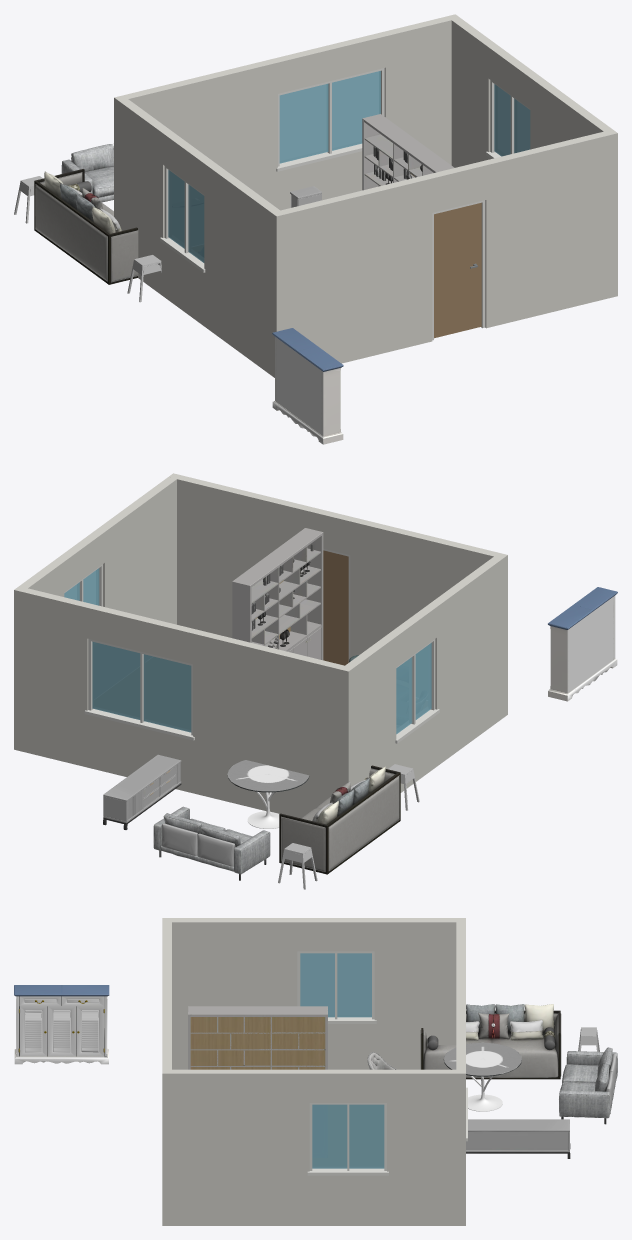
File: diffuscene.glb
The picture shows the model from 3 angles, top to bottom: view 1: azimuth 30°, elevation 25°; view 2: azimuth 150°, elevation 25°; view 3: azimuth 270°, elevation 25°; orthographic projection. The views are drawn at different scales.
Parts seen in each view (by area): view 1: wall|scenesmith_010__R00|0, wall|scenesmith_010__R00|1, wall|scenesmith_010__R00|2, wall|scenesmith_010__R00|3, raw_model.010, wall|scenesmith_010__R00|1 Window 0 | glazing, raw_model.003, wall|scenesmith_010__R00|0 Door 0 | wood leaf, raw_model.002, wall|scenesmith_010__R00|2 Window 0 | glazing, wall|scenesmith_010__R00|3 Window 0 | glazing, raw_model (+5 smaller); view 2: wall|scenesmith_010__R00|1, wall|scenesmith_010__R00|0, wall|scenesmith_010__R00|2, wall|scenesmith_010__R00|3, raw_model.002, raw_model.010, wall|scenesmith_010__R00|1 Window 0 | glazing, raw_model.003, raw_model, raw_model.005, wall|scenesmith_010__R00|0 Door 0 | wood leaf, raw_model.012 (+5 smaller); view 3: wall|scenesmith_010__R00|3, wall|scenesmith_010__R00|2, raw_model.002, raw_model.003, raw_model.010, wall|scenesmith_010__R00|3 Window 0 | glazing, wall|scenesmith_010__R00|2 Window 0 | glazing, raw_model.005, raw_model, wall|scenesmith_010__R00|0, wall|scenesmith_010__R00|1, raw_model.012 (+2 smaller).
Boxes of the visible parts, x1,y1,x2,y2 form: wall|scenesmith_010__R00|0: (271,129,617,377); wall|scenesmith_010__R00|1: (114,14,459,223); wall|scenesmith_010__R00|2: (119,95,285,374); wall|scenesmith_010__R00|3: (448,14,617,298); raw_model.010: (34,169,138,284); wall|scenesmith_010__R00|1 Window 0 | glazing: (279,71,380,163); raw_model.003: (272,328,343,444); wall|scenesmith_010__R00|0 Door 0 | wood leaf: (434,202,481,338); raw_model.002: (362,114,454,190); wall|scenesmith_010__R00|2 Window 0 | glazing: (168,170,204,262); wall|scenesmith_010__R00|3 Window 0 | glazing: (494,84,530,156); raw_model: (61,144,113,202); wall|scenesmith_010__R00|1: (22,588,353,818); wall|scenesmith_010__R00|0: (169,473,507,717); wall|scenesmith_010__R00|2: (340,556,502,792); wall|scenesmith_010__R00|3: (14,477,176,751); raw_model.002: (232,528,323,660); raw_model.010: (279,765,400,874); wall|scenesmith_010__R00|1 Window 0 | glazing: (92,641,191,732); raw_model.003: (548,587,617,701); raw_model: (153,806,270,880); raw_model.005: (103,754,181,829); wall|scenesmith_010__R00|0 Door 0 | wood leaf: (323,550,348,665); raw_model.012: (227,760,309,828); wall|scenesmith_010__R00|3: (172,1069,465,1225); wall|scenesmith_010__R00|2: (172,918,465,1069); raw_model.002: (188,1006,327,1069); raw_model.003: (14,985,109,1064); raw_model.010: (420,1004,561,1079); wall|scenesmith_010__R00|3 Window 0 | glazing: (312,1104,384,1168); wall|scenesmith_010__R00|2 Window 0 | glazing: (300,953,371,1017); raw_model.005: (466,1119,570,1158); raw_model: (559,1047,617,1124); wall|scenesmith_010__R00|0: (162,918,171,1225); wall|scenesmith_010__R00|1: (456,918,465,1225); raw_model.012: (443,1042,521,1111).
Bounding box in the file's own units: 6.28 × 2.61 × 9.35.
16 materials, 10 textured.
